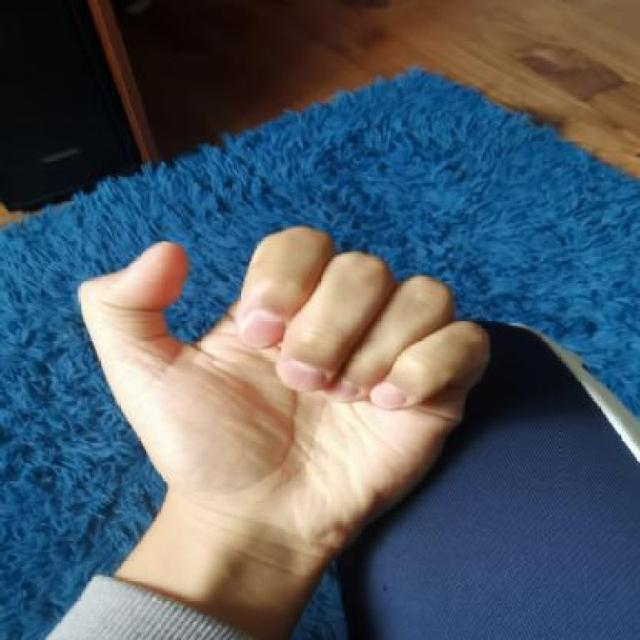E: (35, 206, 510, 572)
